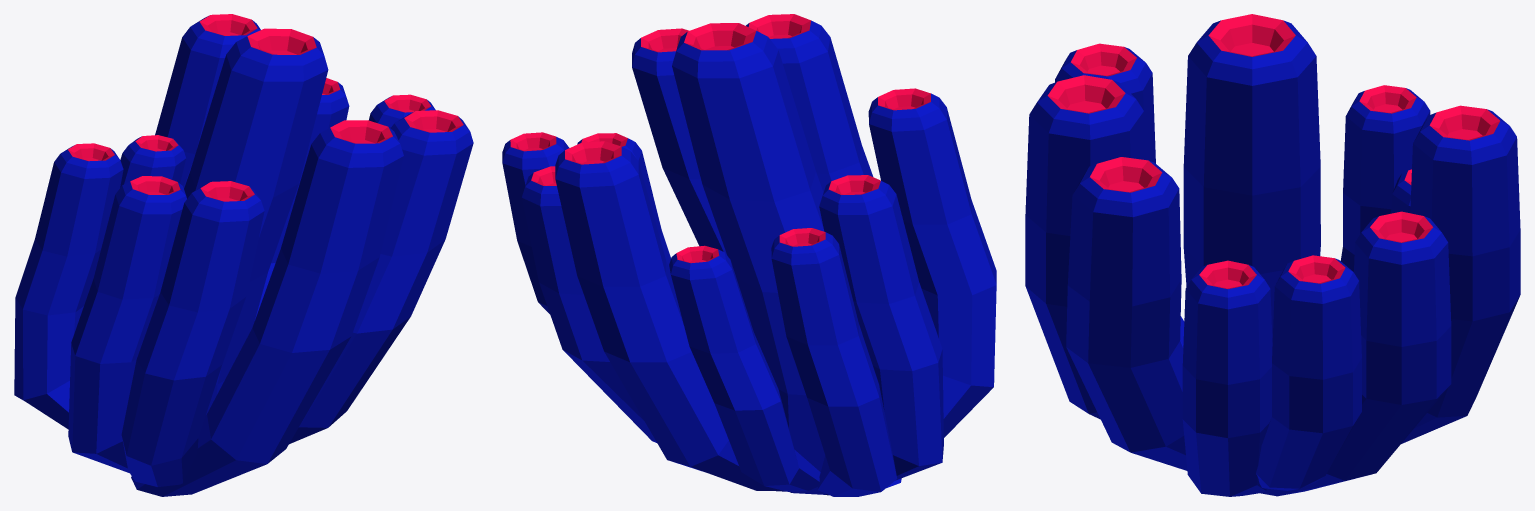
Rendered from propSponges2B.fbx.
3 renders of one model, left to right at view 1: azimuth 30°, elevation 25°; view 2: azimuth 150°, elevation 25°; view 3: azimuth 270°, elevation 25°, orthographic. The views are drawn at different scales.
Visible parts, largest first — view 1: Sponges2B; view 2: Sponges2B; view 3: Sponges2B.
Part boxes in pixels (box(x1,y1,x2,y2)): Sponges2B: box(14, 14, 473, 496); Sponges2B: box(502, 14, 996, 496); Sponges2B: box(1025, 14, 1520, 496).
Bounding box in the file's own units: 277 × 270 × 248.
